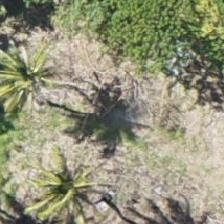coconut_tree: (23, 147, 113, 223), (0, 35, 69, 125)
